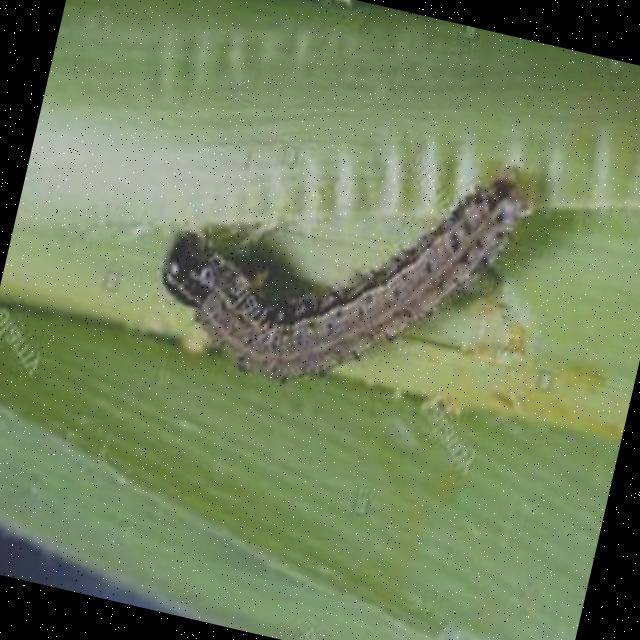worm: (141, 104, 542, 437)
